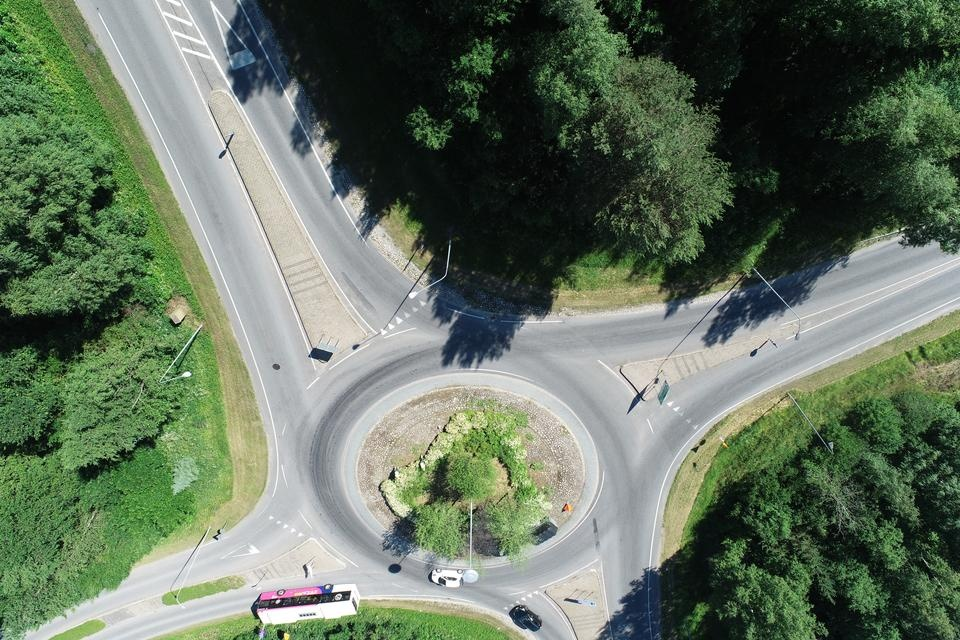roundabout: (186, 248, 720, 633)
